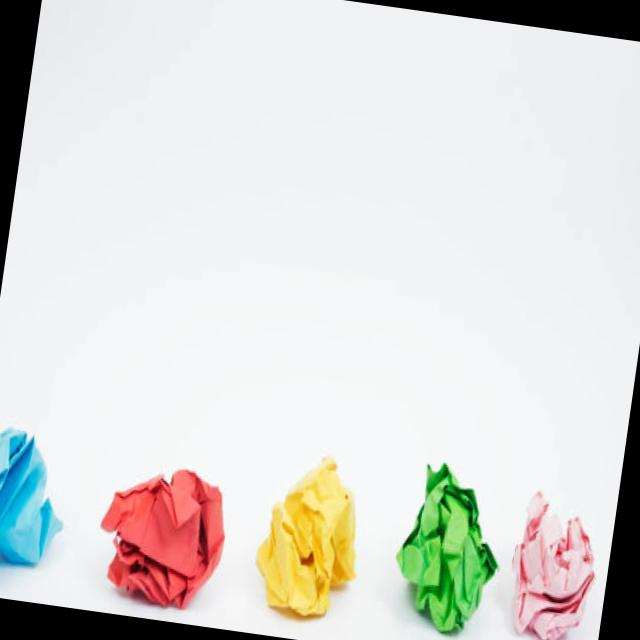electronic: (386, 456, 512, 640), (89, 456, 234, 615), (248, 446, 372, 624), (501, 485, 606, 640), (0, 420, 76, 594)
